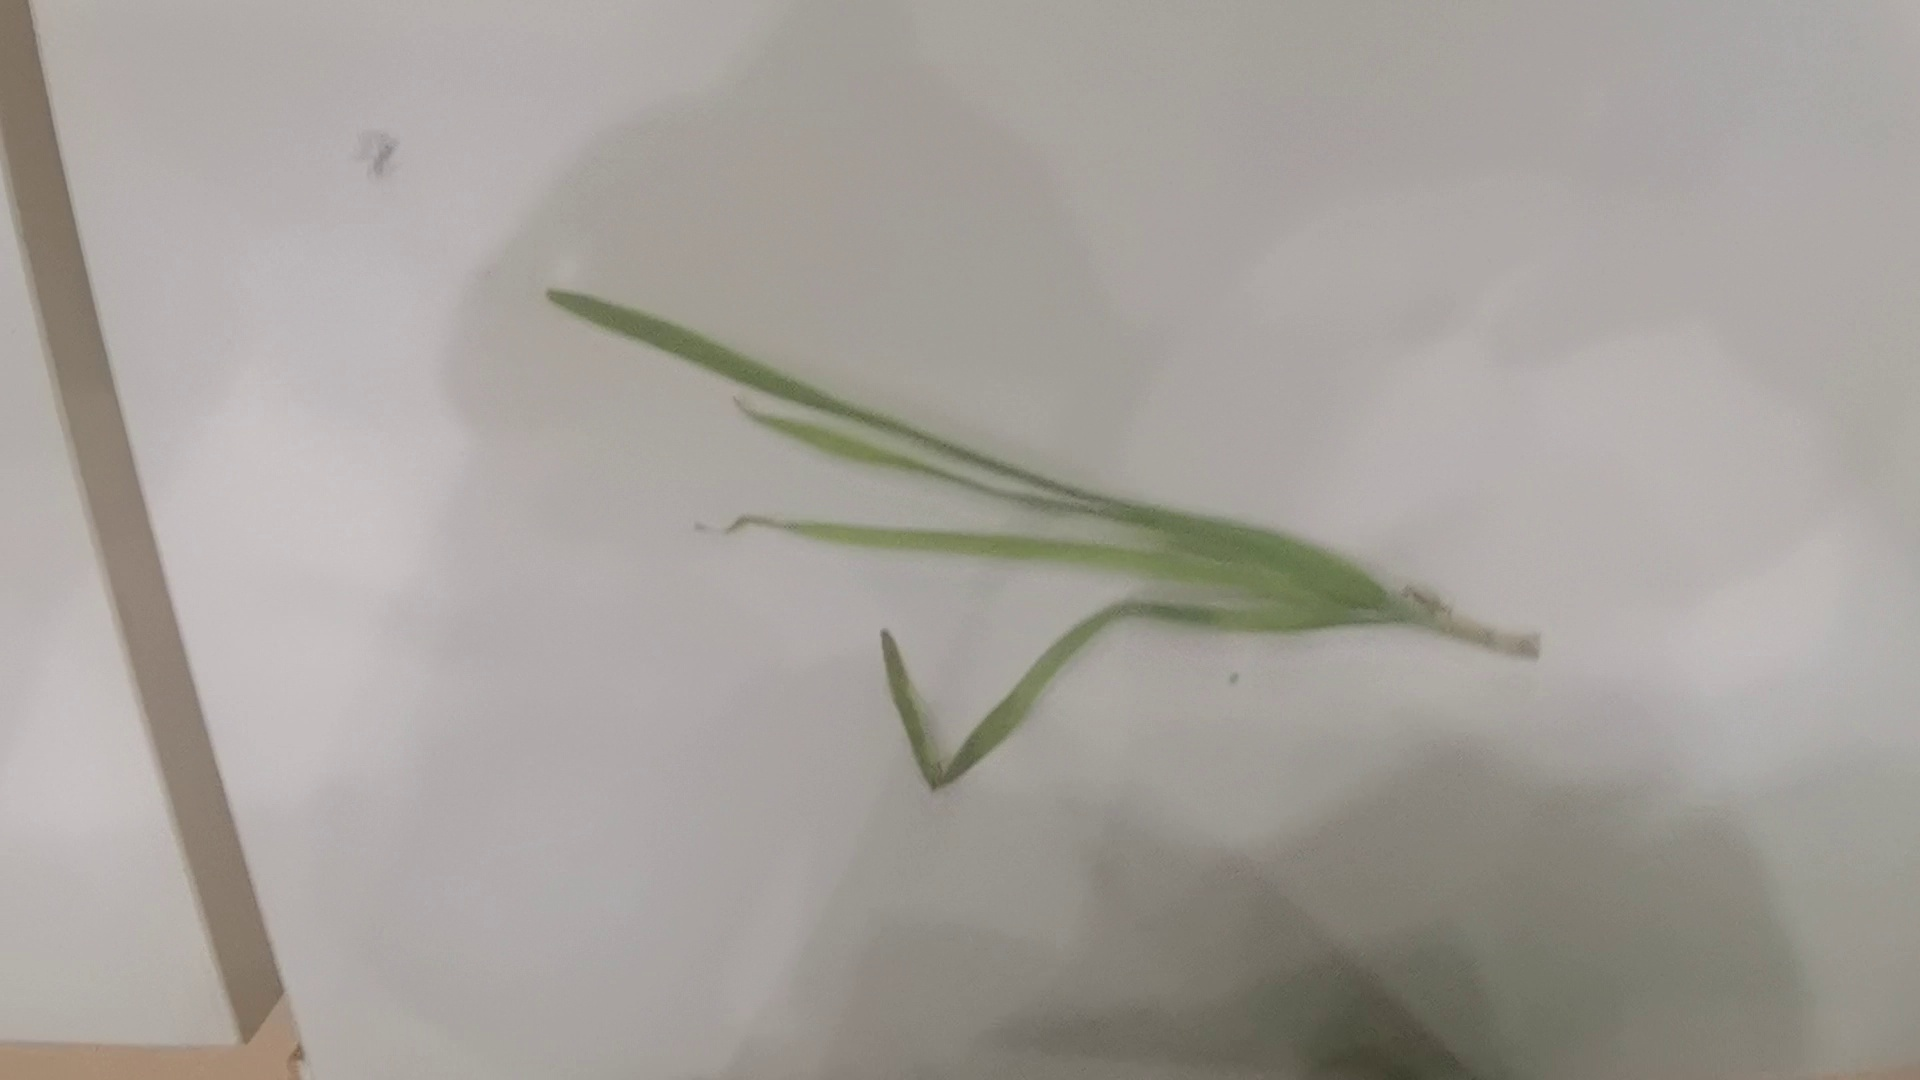chives: (549, 284, 1552, 789)
